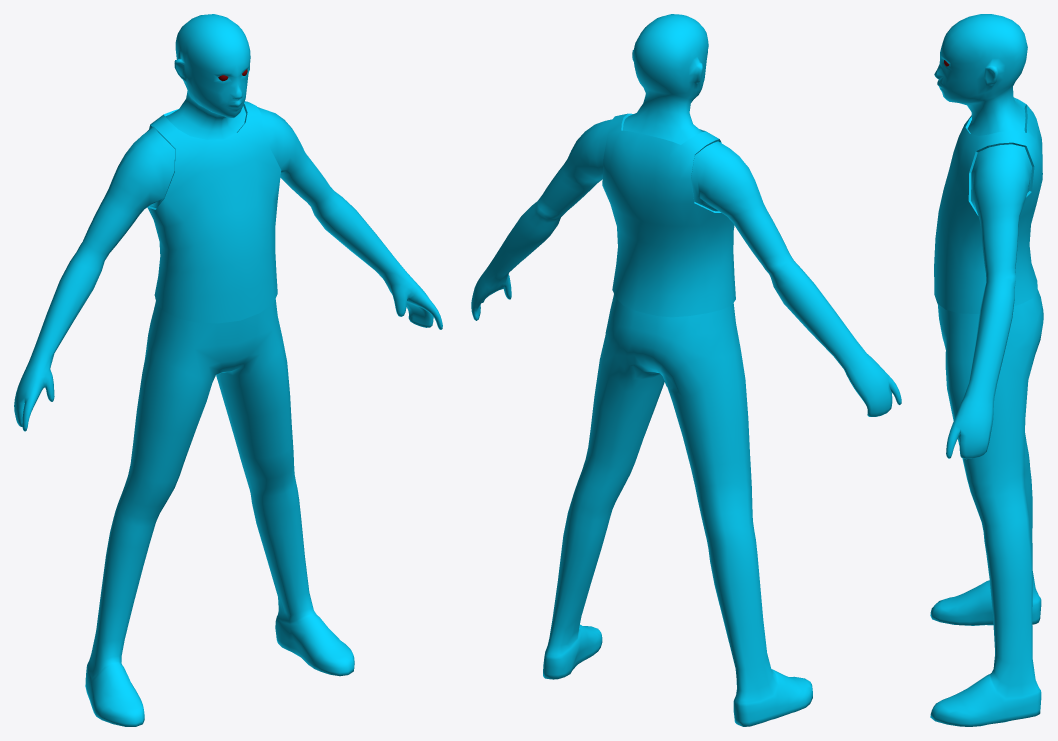
The model's file is Poli1.fbx.
The picture shows the model from 3 angles, left to right: view 1: azimuth 30°, elevation 25°; view 2: azimuth 150°, elevation 25°; view 3: azimuth 270°, elevation 25°; orthographic projection. The views are drawn at different scales.
Visible parts, largest first — view 1: Cube; view 2: Cube; view 3: Cube.
Part boxes in pixels (left/top/right/bottom): Cube: left=14, top=14, right=442, bottom=726; Cube: left=471, top=14, right=901, bottom=726; Cube: left=930, top=14, right=1043, bottom=726.
Bounding box in the file's own units: 1.21 × 1.82 × 0.2866.
